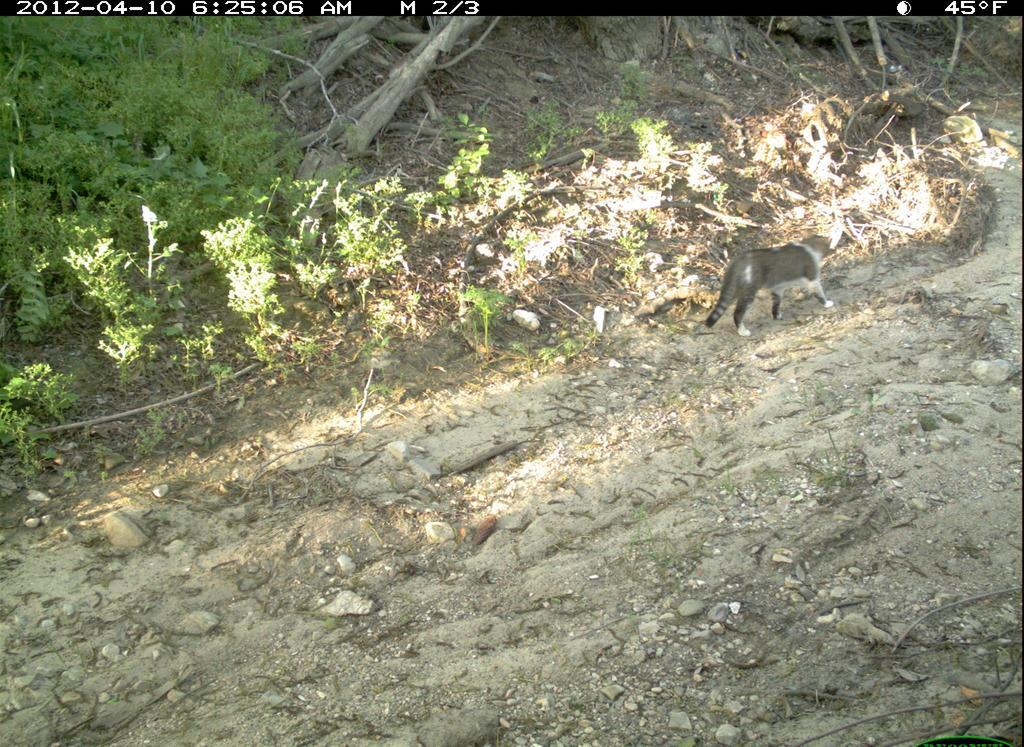cat: (701, 231, 847, 346)
